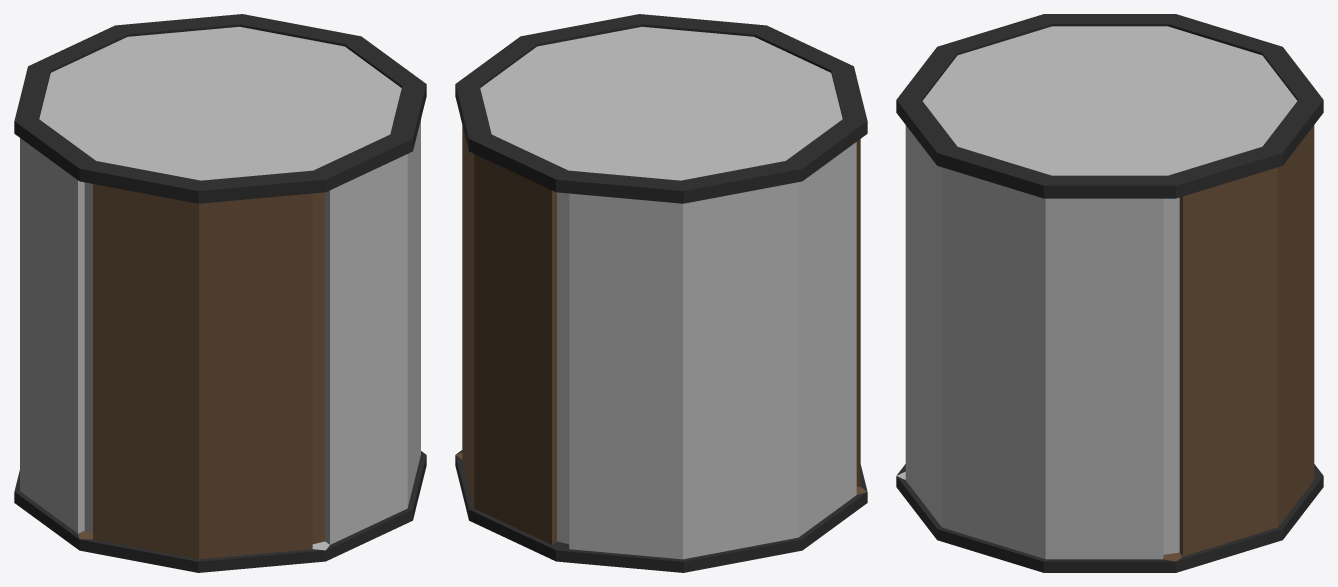
The model's file is tank_small.glb.
The picture shows the model from 3 angles, left to right: view 1: azimuth 30°, elevation 25°; view 2: azimuth 150°, elevation 25°; view 3: azimuth 270°, elevation 25°; orthographic projection.
Parts seen in each view (by area): view 1: SmallTank; view 2: SmallTank; view 3: SmallTank.
Part boxes in pixels (box(x1,y1,x2,y2)): SmallTank: box(14, 14, 426, 572); SmallTank: box(455, 14, 867, 572); SmallTank: box(896, 14, 1323, 572).
Size of the model in its own units: 1.9 by 2 by 2.
